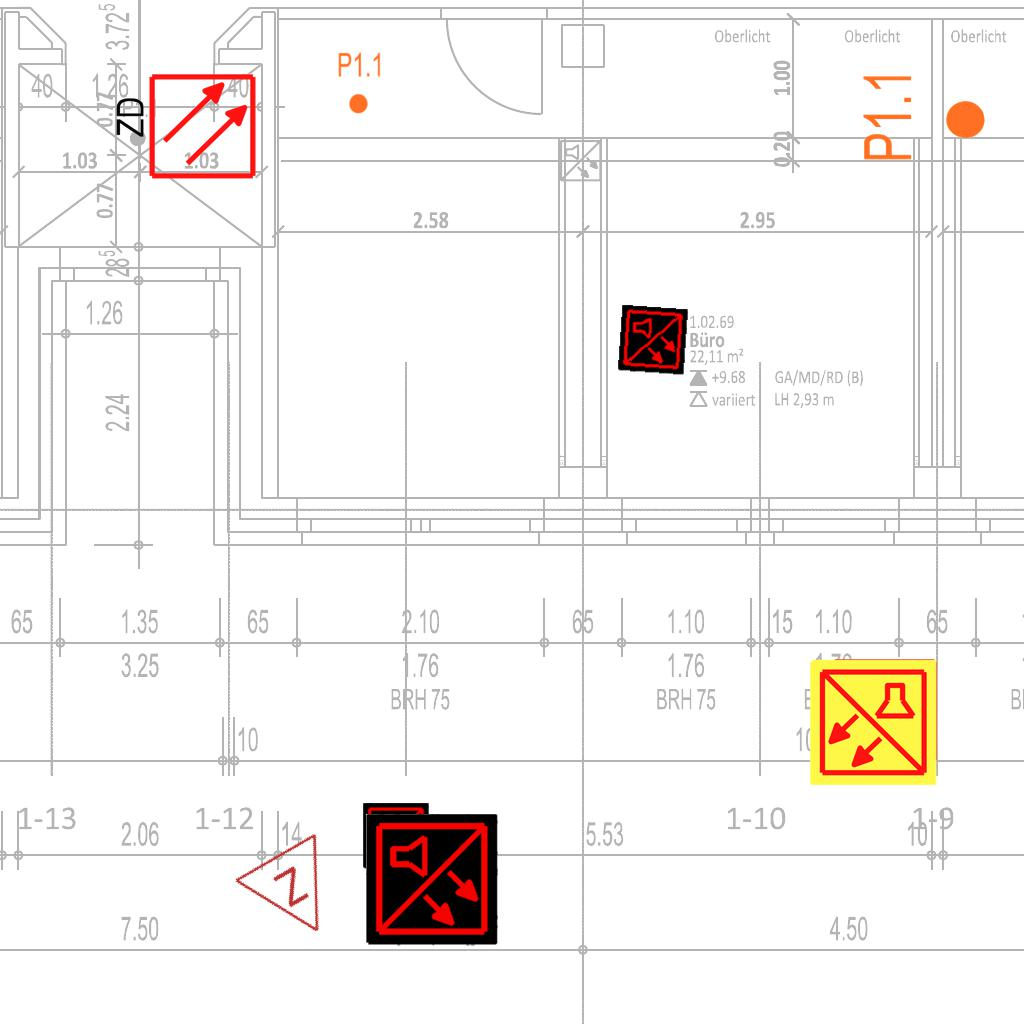Downlight_LED_Einbauleuchten_Flur: (860, 70, 988, 163), (337, 51, 383, 115)
OKW_Multisensormelder_(Kombination_optischer_Rauch-Kahlenmonoxid_Waerme-Melder): (807, 656, 939, 788), (366, 814, 498, 946), (617, 304, 689, 376), (363, 803, 429, 869)
ZD_Melder_in_Zwischendecke_mit_Revisionsoeffnung_mind_40_x_40_cm: (109, 71, 258, 185)
Zimmersignalleuchte: (229, 825, 365, 961)
